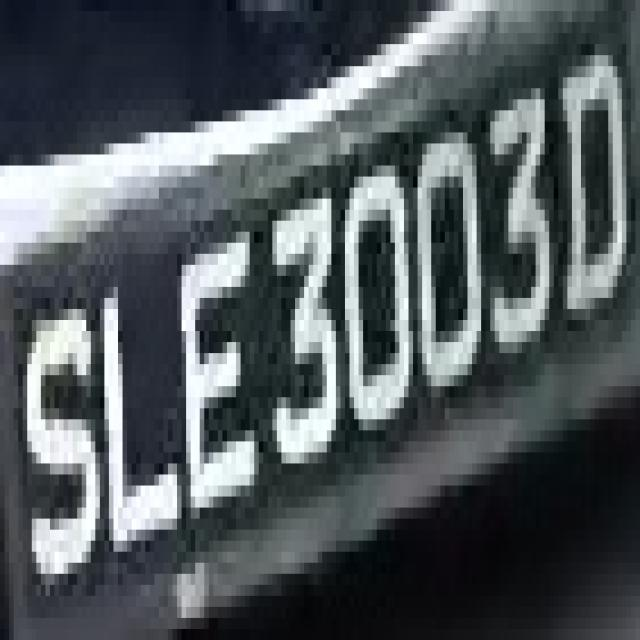0: (331, 110, 413, 452), (400, 144, 500, 408)
3: (481, 33, 549, 386), (272, 188, 350, 442)
D: (544, 33, 640, 353)
E: (182, 220, 272, 530)
L: (104, 254, 177, 540)
S: (18, 287, 100, 618)
